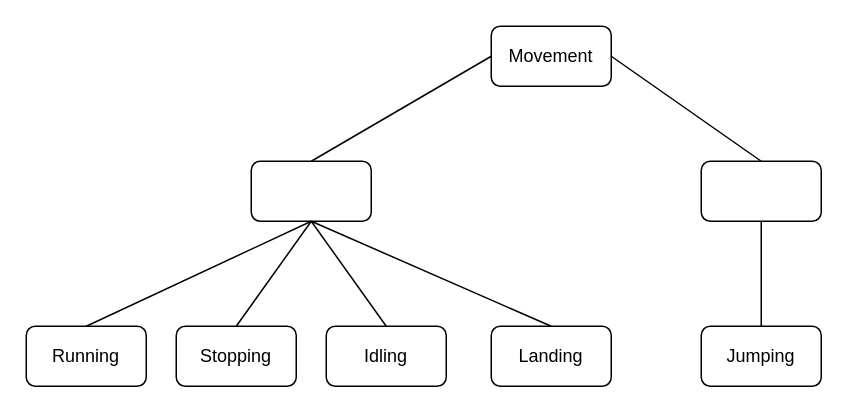
Some shapes in this 848 by 413 pixel diagram are drawn without their labels. Each missing label, with the box of its shape:
Airborne: (700, 160, 821, 221)
Grounded: (250, 160, 371, 221)
